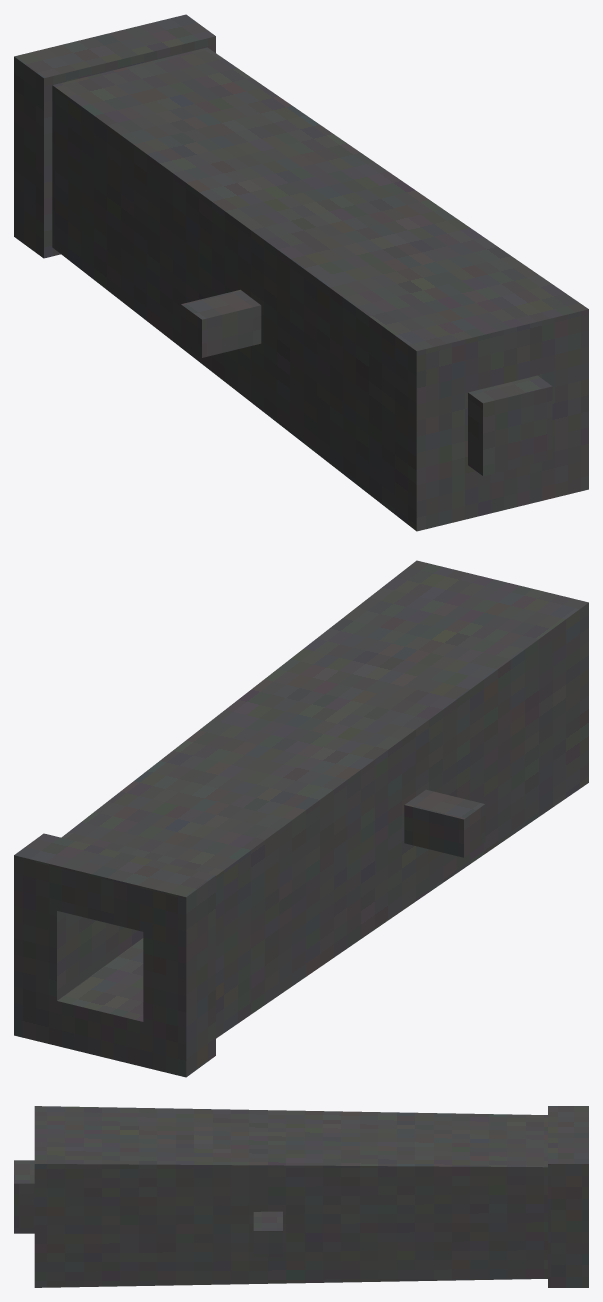
Rendered from Cannon.obj.
3 views of the same model, one above another, from view 1: azimuth 30°, elevation 25°; view 2: azimuth 150°, elevation 25°; view 3: azimuth 270°, elevation 25° (orthographic). The views are drawn at different scales.
Parts seen in each view (by area): view 1: Cube_Cube.001; view 2: Cube_Cube.001; view 3: Cube_Cube.001.
Part boxes in pixels (x1,y1,x2,y2): Cube_Cube.001: (14,14,588,531); Cube_Cube.001: (14,560,588,1077); Cube_Cube.001: (14,1106,588,1287).
Bounding box in the file's own units: 0.8161 × 0.5 × 2.1.
